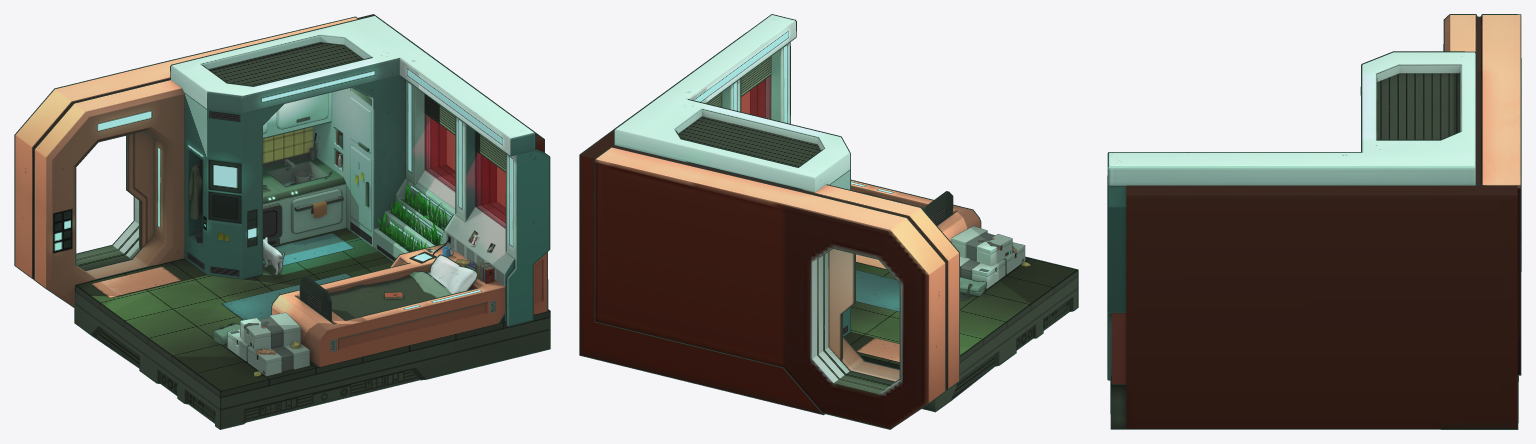
File: apartment.glb
3 views of the same model, side by side, from view 1: azimuth 30°, elevation 25°; view 2: azimuth 150°, elevation 25°; view 3: azimuth 270°, elevation 25° (orthographic). The views are drawn at different scales.
Parts seen in each view (by area): view 1: Cyber_Room_Vf10_0; view 2: Cyber_Room_Vf10_0; view 3: Cyber_Room_Vf10_0.
Part boxes in pixels (x1,y1,x2,y2): Cyber_Room_Vf10_0: (14, 14, 550, 429); Cyber_Room_Vf10_0: (579, 14, 1078, 429); Cyber_Room_Vf10_0: (1107, 14, 1521, 429).
Size of the model in its own units: 10.01 by 5.95 by 8.73.
Materials: 3 (1 with a texture image).
